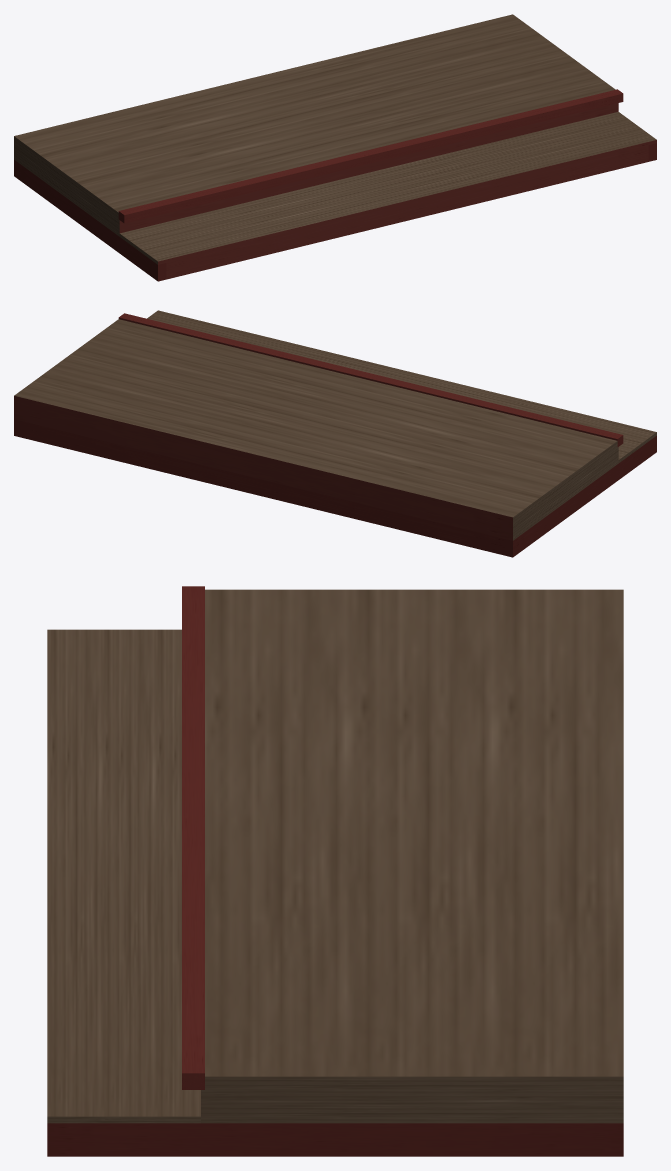
Rendered from house_02_porch_deck.glb.
3 renders of one model, top to bottom at view 1: azimuth 30°, elevation 25°; view 2: azimuth 150°, elevation 25°; view 3: azimuth 270°, elevation 25°, orthographic. The views are drawn at different scales.
Visible parts, largest first — view 1: outdoor_house_02_porch_deck; view 2: outdoor_house_02_porch_deck; view 3: outdoor_house_02_porch_deck.
Part boxes in pixels (left/top/right/bottom): outdoor_house_02_porch_deck: left=14, top=14, right=656, bottom=281; outdoor_house_02_porch_deck: left=14, top=310, right=656, bottom=557; outdoor_house_02_porch_deck: left=47, top=586, right=623, bottom=1156.
Size of the model in its own units: 3 by 0.24 by 1.5.
1 material, 1 textured.
